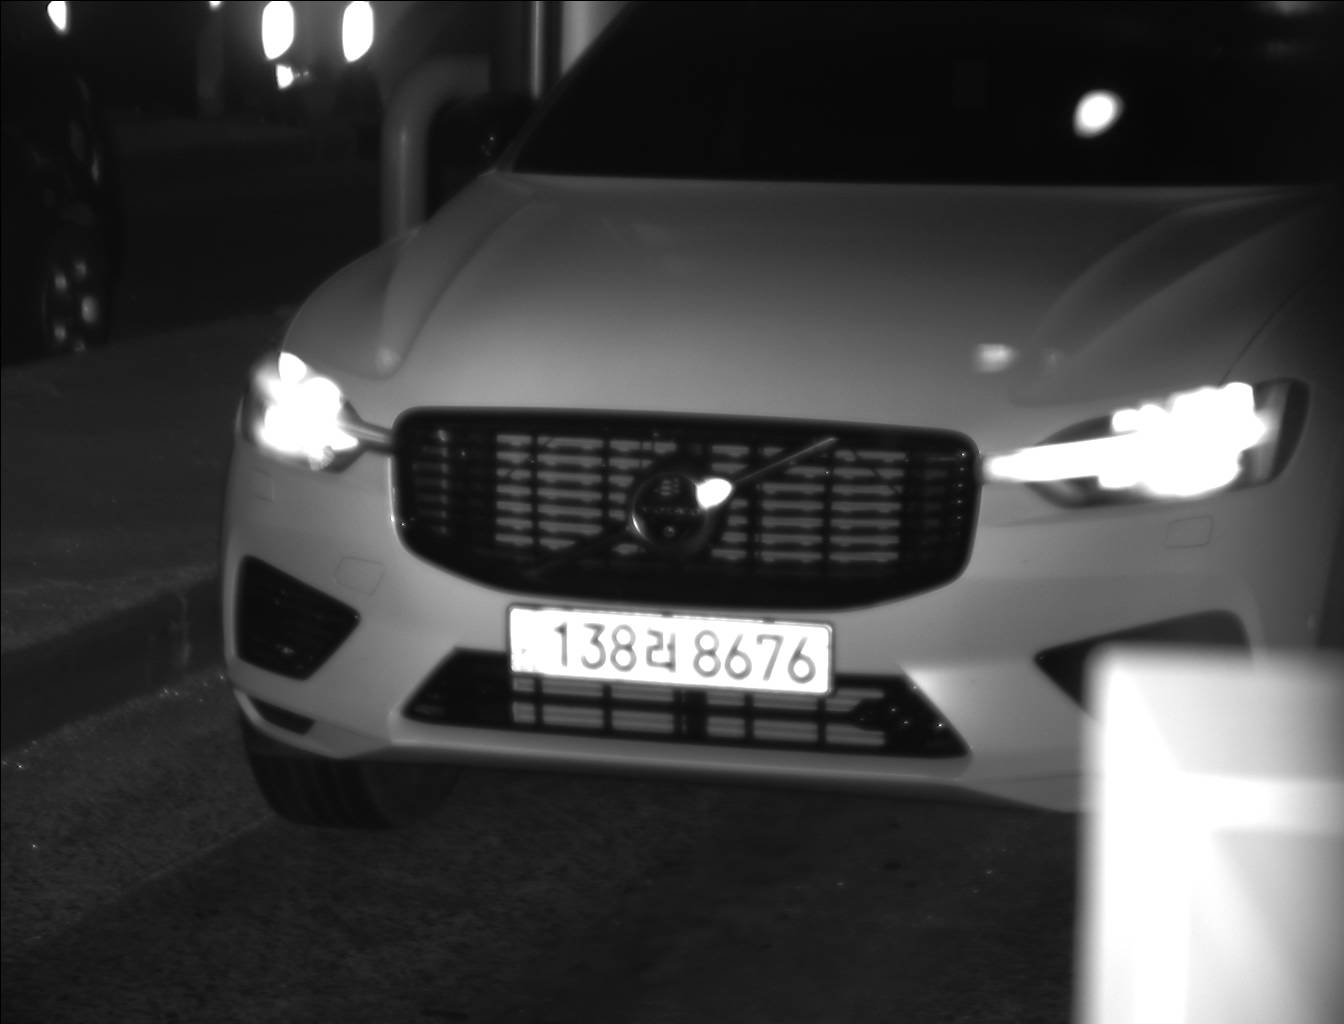car: (217, 1, 1344, 833)
plate: (504, 600, 837, 701)
